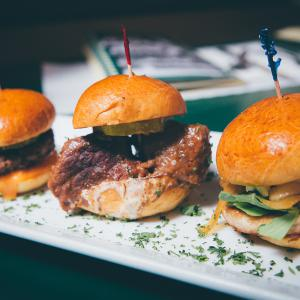cheeseburger_475cal: (61, 64, 216, 224), (221, 89, 300, 252), (2, 81, 59, 201)
